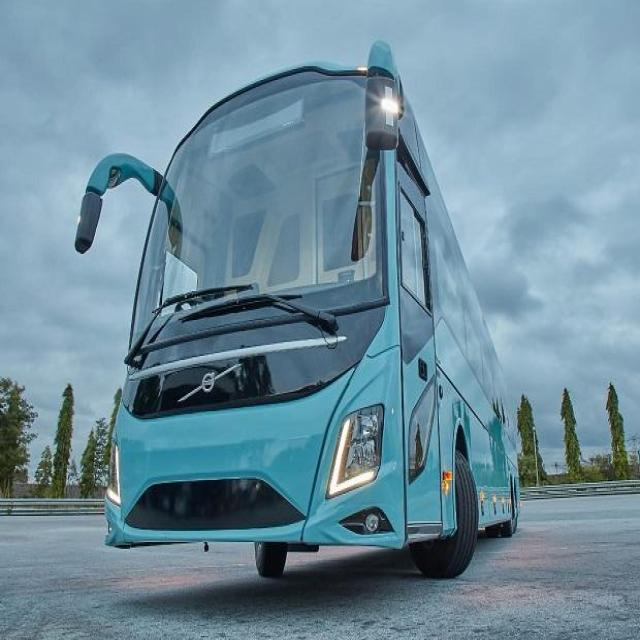bus: (75, 43, 520, 578)
